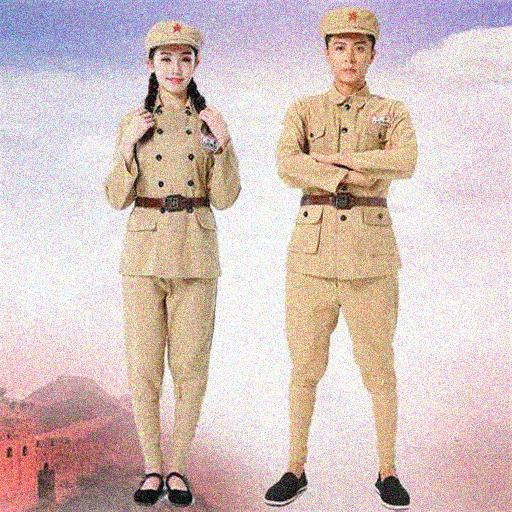north army: (86, 0, 465, 511)
